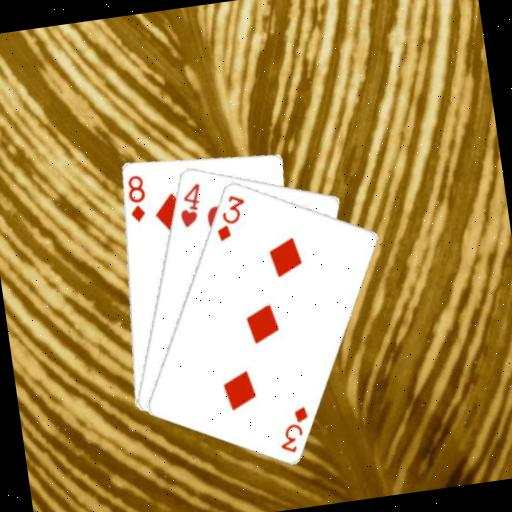3D: (209, 190, 252, 245), (272, 402, 315, 456)
4H: (173, 179, 207, 229)
8D: (122, 171, 151, 225)
